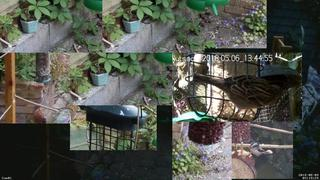long tailed tit: (247, 142, 273, 160)
sparrow: (192, 73, 282, 114)
